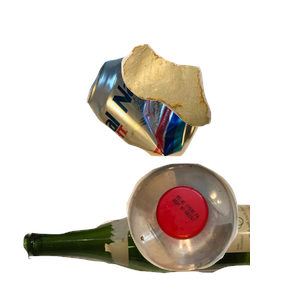glass: (21, 201, 261, 300)
metal: (84, 53, 279, 202)
plastic: (124, 161, 300, 300)
trash: (119, 42, 300, 161)
